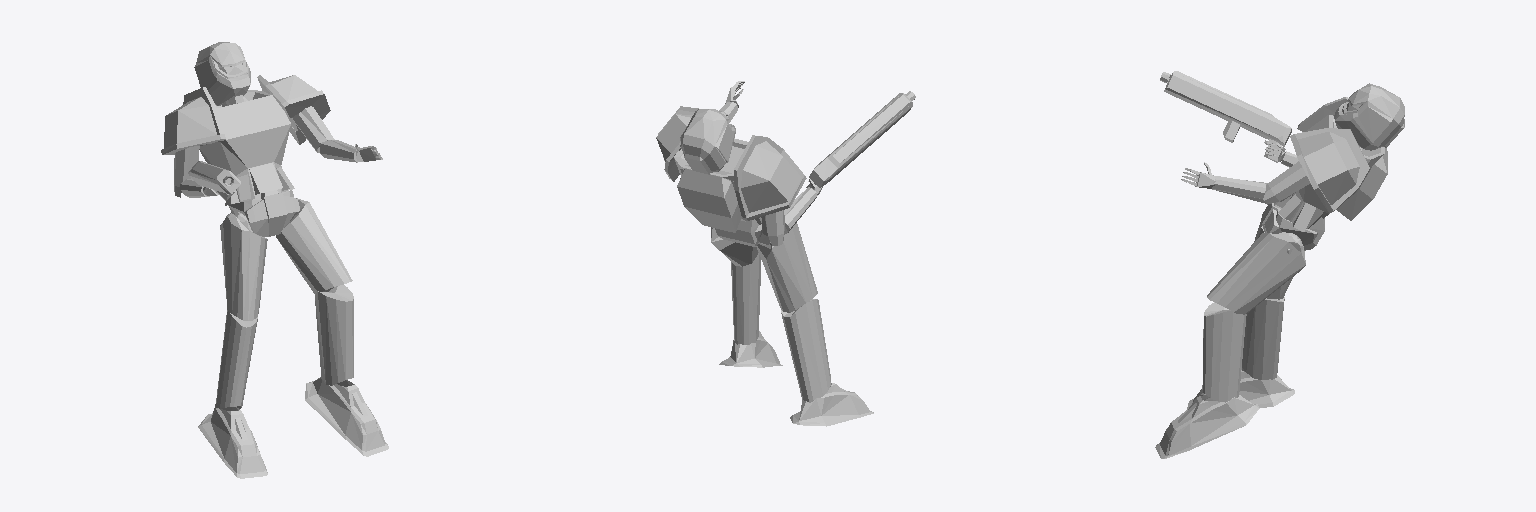
File: robots_000002.obj
3 renders of one model, left to right at view 1: azimuth 30°, elevation 25°; view 2: azimuth 150°, elevation 25°; view 3: azimuth 270°, elevation 25°, orthographic.
Parts seen in each view (by area): view 1: Chest_plate_Cube.004, R_Thigh_Cube.005, R_Thigh.002_Cube.027, R_Foot.002_Cube.035, R_Shin.002_Cube.029, R_Foot_Cube, Cube.002_Cube.059, R_Shin_Cube.007, Head_base_Cube.022, Pelvis_Cube.006, Cube_Cube.021, Cube_Cube.001 (+3 smaller); view 2: Cube.002_Cube.059, Chest_plate_Cube.004, R_Shin_Cube.007, R_Thigh_Cube.005, Head_base_Cube.022, Cube_Cube.001, R_Shin.002_Cube.029, R_Foot_Cube, Cube_Cube.021, R_Foot.002_Cube.035, R_Thigh.002_Cube.027, Pelvis_Cube.006 (+2 smaller); view 3: R_Thigh.002_Cube.027, Cube_Cube.021, Cube_Cube.001, R_Shin.002_Cube.029, R_Foot.002_Cube.035, Head_base_Cube.022, Chest_plate_Cube.004, R_Shin_Cube.007, R_Foot_Cube, Pelvis_Cube.006, L_Arm_Cube.014, L_Forearm_Cube.020 (+1 smaller).
Part boxes in pixels (bbox=[...]): Chest_plate_Cube.004: bbox=[199, 90, 294, 205]; R_Thigh_Cube.005: bbox=[220, 213, 267, 320]; R_Thigh.002_Cube.027: bbox=[276, 198, 352, 294]; R_Foot.002_Cube.035: bbox=[305, 377, 388, 456]; R_Shin.002_Cube.029: bbox=[315, 285, 353, 385]; R_Foot_Cube: bbox=[198, 404, 267, 478]; Cube.002_Cube.059: bbox=[161, 87, 225, 154]; R_Shin_Cube.007: bbox=[216, 310, 257, 408]; Head_base_Cube.022: bbox=[194, 42, 250, 105]; Pelvis_Cube.006: bbox=[228, 190, 299, 236]; Cube_Cube.021: bbox=[257, 75, 330, 144]; Cube_Cube.001: bbox=[188, 161, 240, 200]; Cube.002_Cube.059: bbox=[734, 135, 806, 220]; Chest_plate_Cube.004: bbox=[674, 138, 761, 232]; R_Shin_Cube.007: bbox=[781, 299, 830, 402]; R_Thigh_Cube.005: bbox=[756, 223, 817, 312]; Head_base_Cube.022: bbox=[680, 109, 735, 174]; Cube_Cube.001: bbox=[806, 91, 915, 187]; R_Shin.002_Cube.029: bbox=[731, 253, 760, 344]; R_Foot_Cube: bbox=[790, 383, 873, 426]; Cube_Cube.021: bbox=[656, 106, 727, 181]; R_Foot.002_Cube.035: bbox=[719, 331, 782, 367]; R_Thigh.002_Cube.027: bbox=[711, 227, 758, 266]; Pelvis_Cube.006: bbox=[715, 219, 762, 246]; R_Thigh.002_Cube.027: bbox=[1207, 233, 1305, 314]; Cube_Cube.021: bbox=[1290, 128, 1369, 213]; Cube_Cube.001: bbox=[1160, 71, 1291, 162]; R_Shin.002_Cube.029: bbox=[1202, 302, 1246, 402]; R_Foot.002_Cube.035: bbox=[1155, 395, 1259, 458]; Head_base_Cube.022: bbox=[1334, 83, 1404, 150]; Chest_plate_Cube.004: bbox=[1275, 115, 1387, 231]; R_Shin_Cube.007: bbox=[1242, 297, 1284, 379]; R_Foot_Cube: bbox=[1187, 368, 1294, 409]; Pelvis_Cube.006: bbox=[1262, 203, 1324, 249]; L_Arm_Cube.014: bbox=[1263, 161, 1310, 204]; L_Forearm_Cube.020: bbox=[1212, 176, 1267, 203].
Bounding box in the file's own units: 1.61 × 2.97 × 1.9.